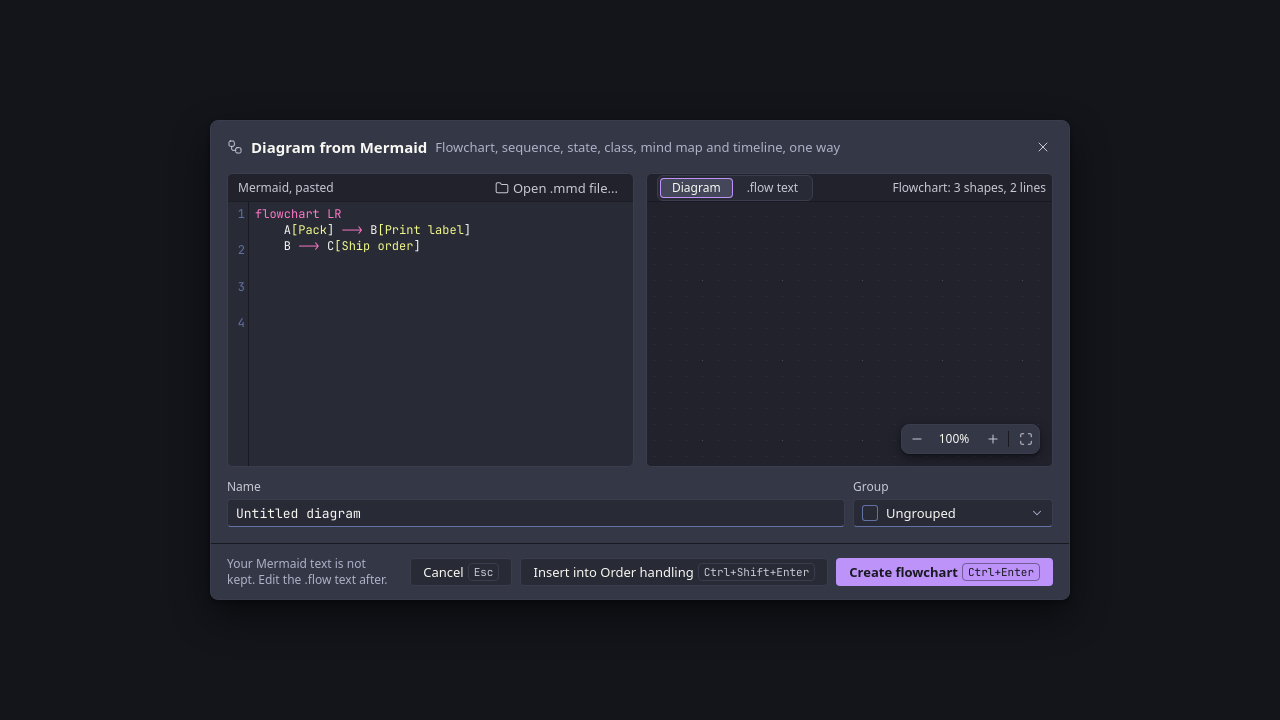
Test: an Insert the open diagram refuses keeps the dialog open with the reason
The image size is (1280, 720).
Click the button "Insert into Order handling Ctrl+Shift+Enter": (674, 572) [520, 558, 828, 586]
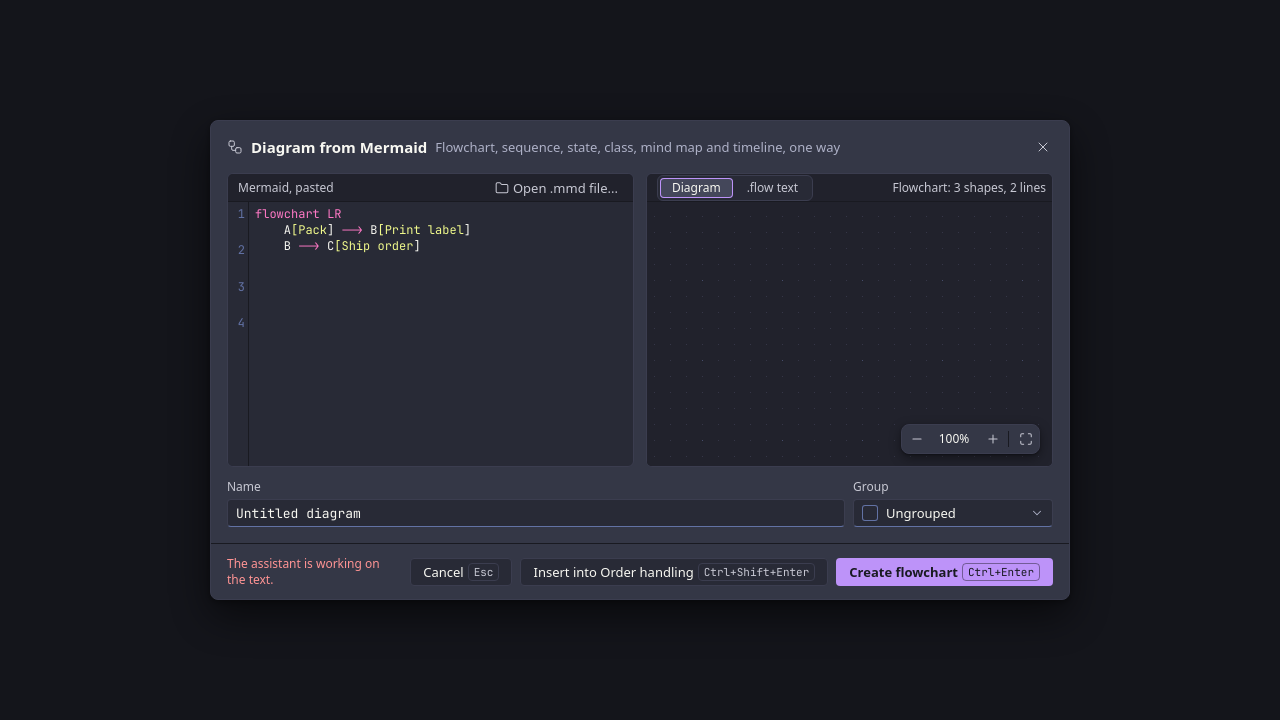
Expected: the text "The assistant is working on the text." is shown, [227, 556, 394, 588]
